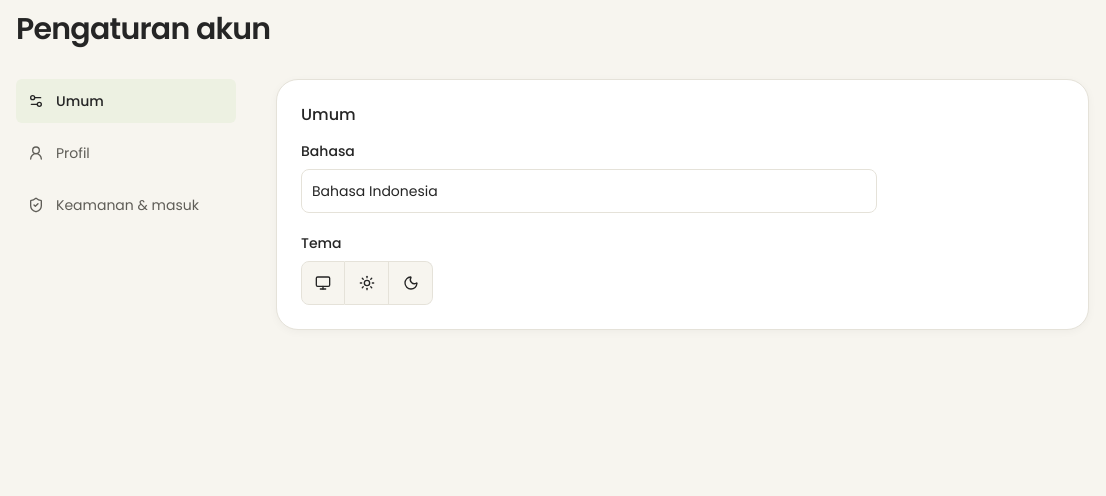
Test case: PengaturanAkunPage › menampilkan informasi akun pengguna setelah guard dijalankan
The width and height of the screenshot is (1106, 496).
Click the button "Profil": x=126, y=153 [16,131,236,175]
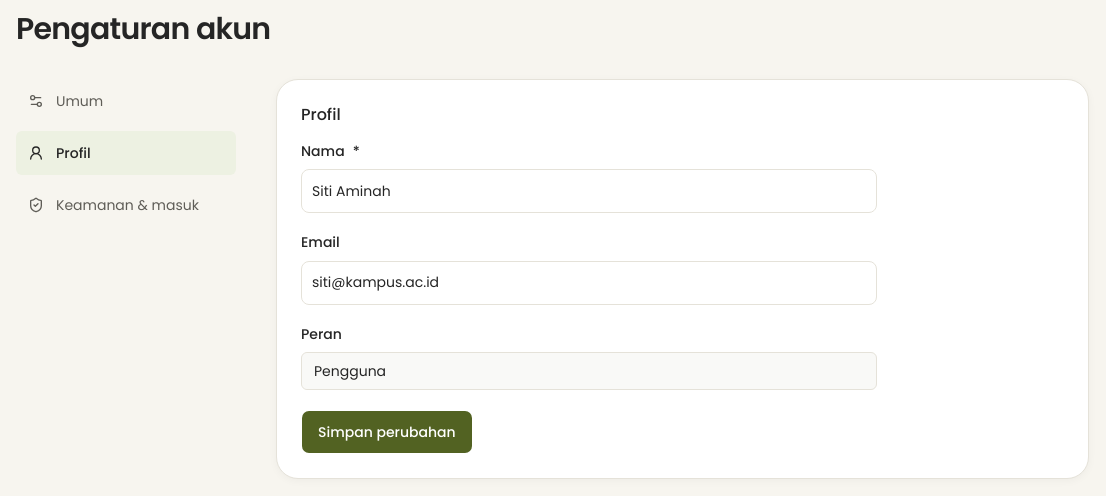
Now the field labelled "Nama *" holds "Siti Aminah", box [301,169,877,213]
Now the field labelled "Email" holds "siti@kampus.ac.id", box [301,260,877,304]
